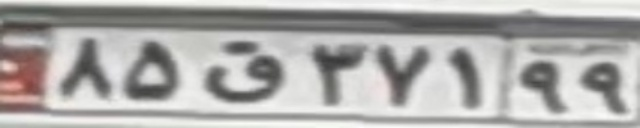1: (449, 47, 481, 109)
3: (309, 42, 364, 106)
5: (122, 39, 178, 100)
7: (377, 45, 430, 105)
8: (56, 36, 111, 97)
9: (579, 60, 627, 113), (518, 60, 564, 113)
ghaf: (202, 39, 283, 102)
